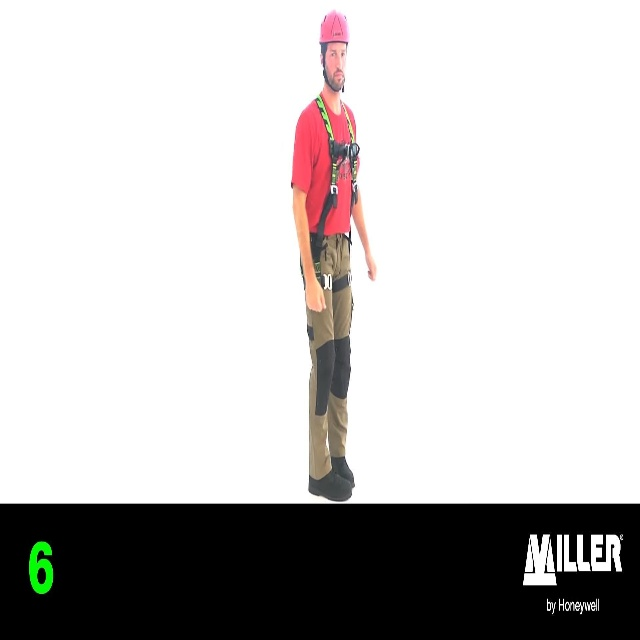Arnes_seguridad: (306, 93, 360, 303)
